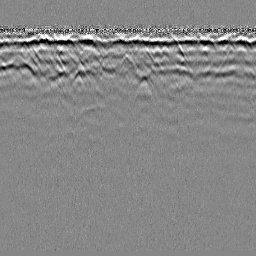cavity: (120, 53, 135, 68)
